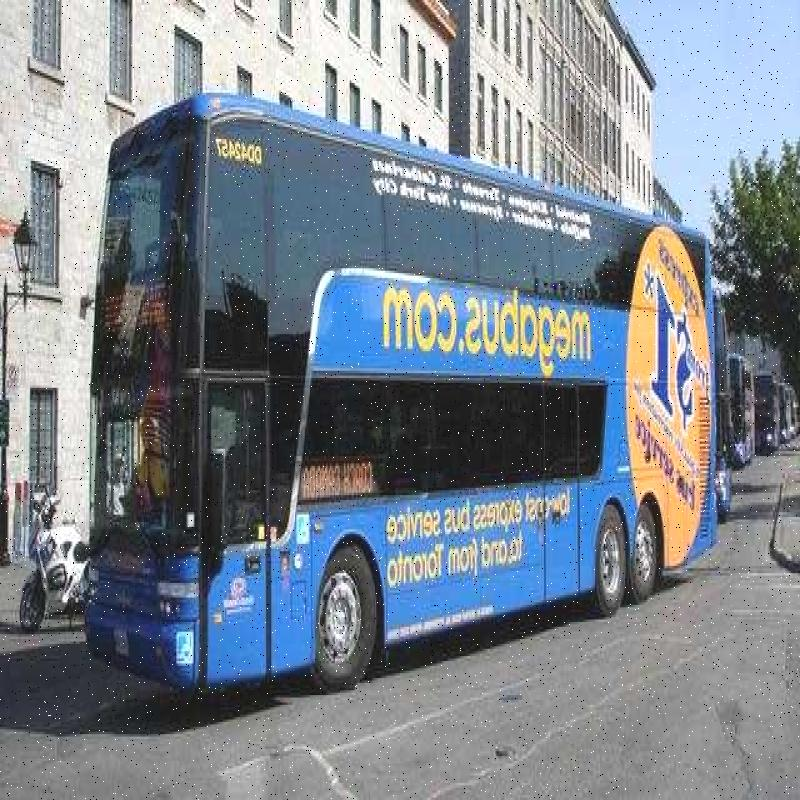bus: (73, 100, 723, 699)
